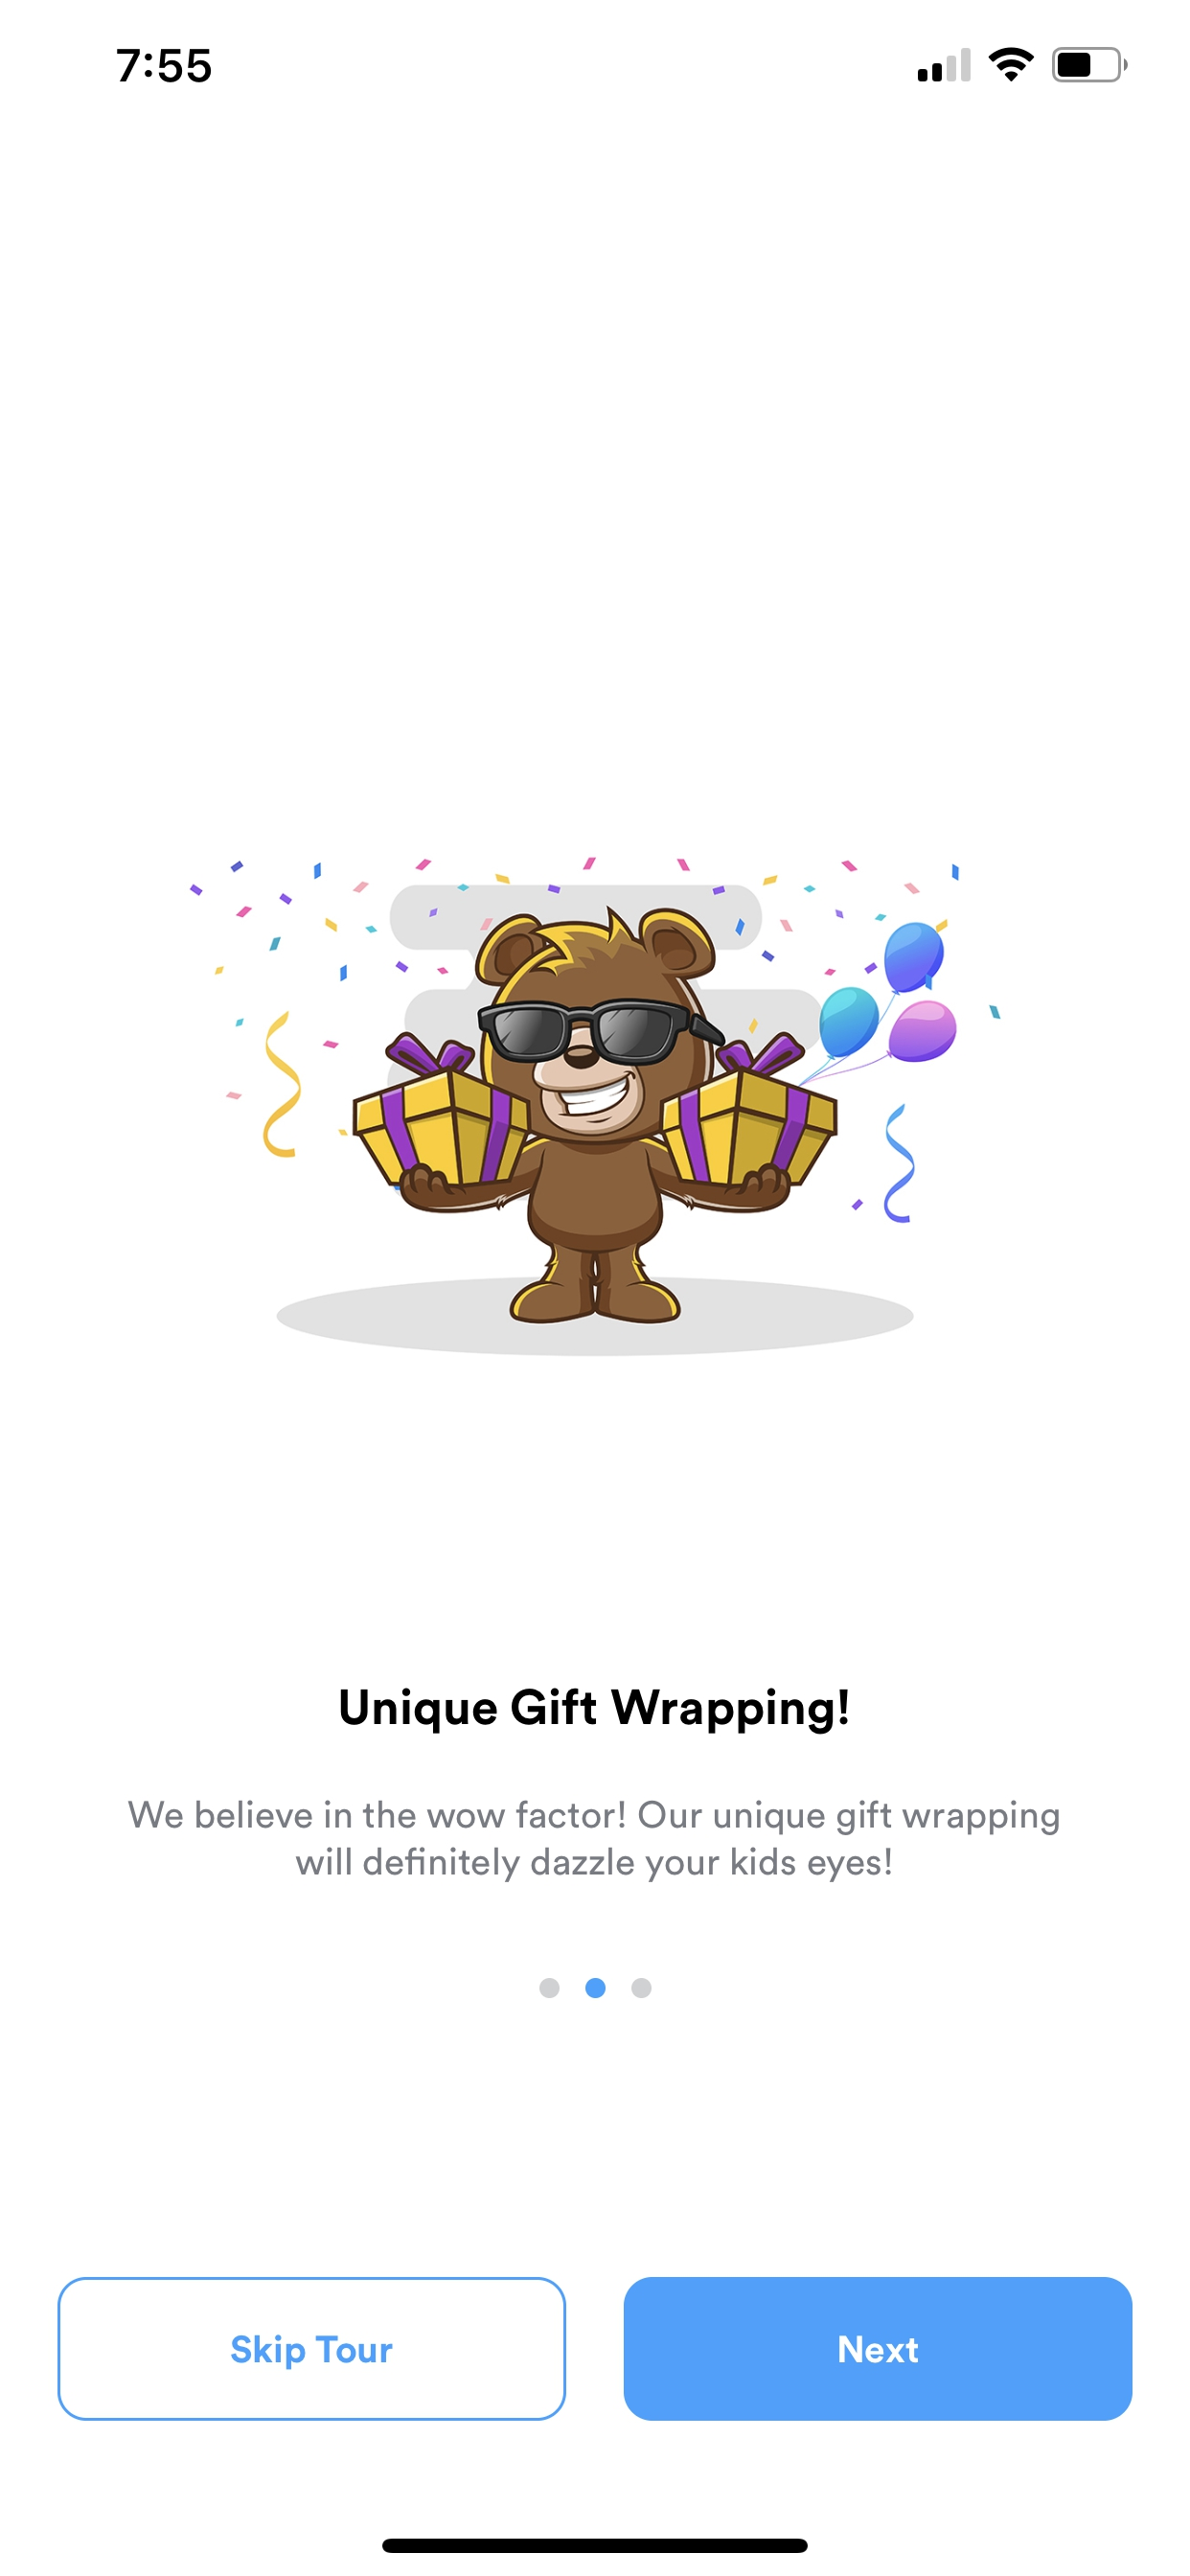Image: (191, 858, 1001, 1355)
PageIndicator: (539, 1976, 651, 1998)
Text: (128, 1801, 1059, 1883), (340, 1687, 848, 1735)
TextButton: (623, 2275, 1132, 2422), (58, 2275, 567, 2422)
UpperTaskBar: (117, 48, 1128, 84)
